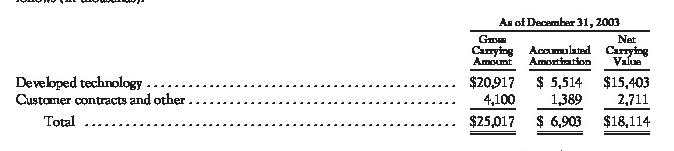table: (0, 0, 674, 151)
